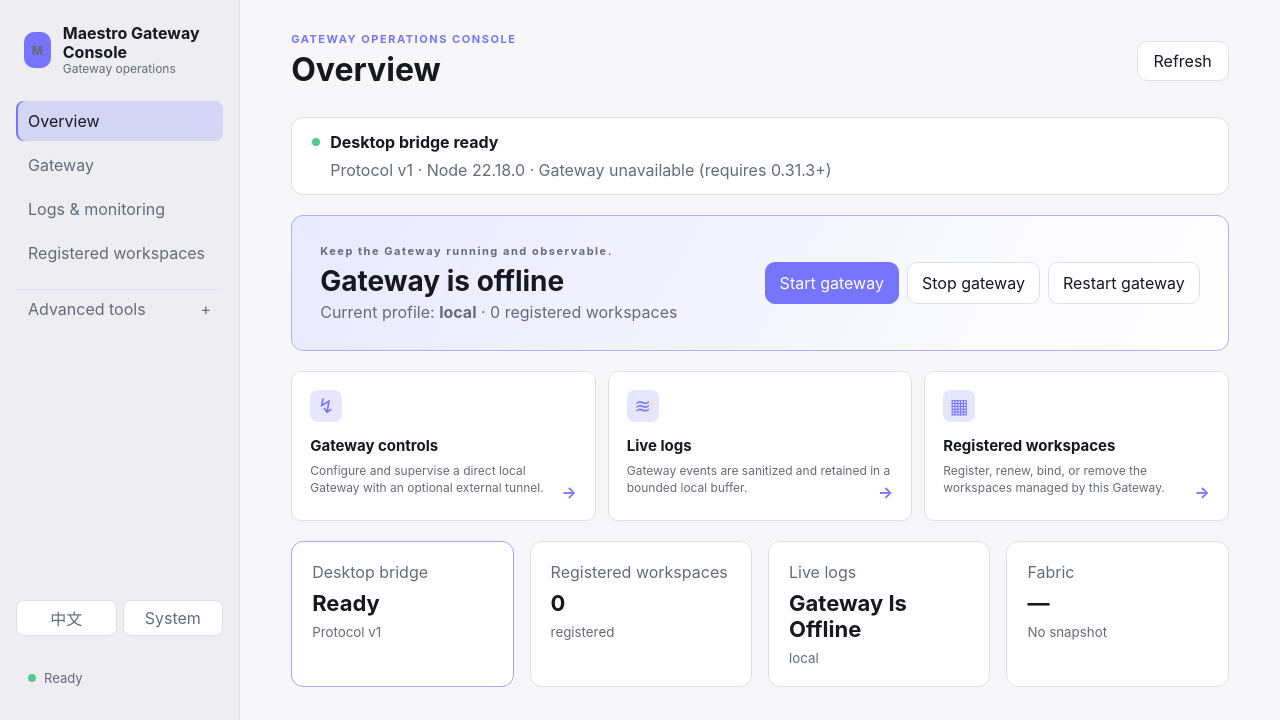
Scenario: App smoke › localizes Gateway compatibility status
expect the text "Gateway unavailable (requires 0.31.3+)" is shown: met, box left=330, top=160, right=832, bottom=180
Click the button named "Language" at (66, 618), box left=16, top=600, right=116, bottom=636
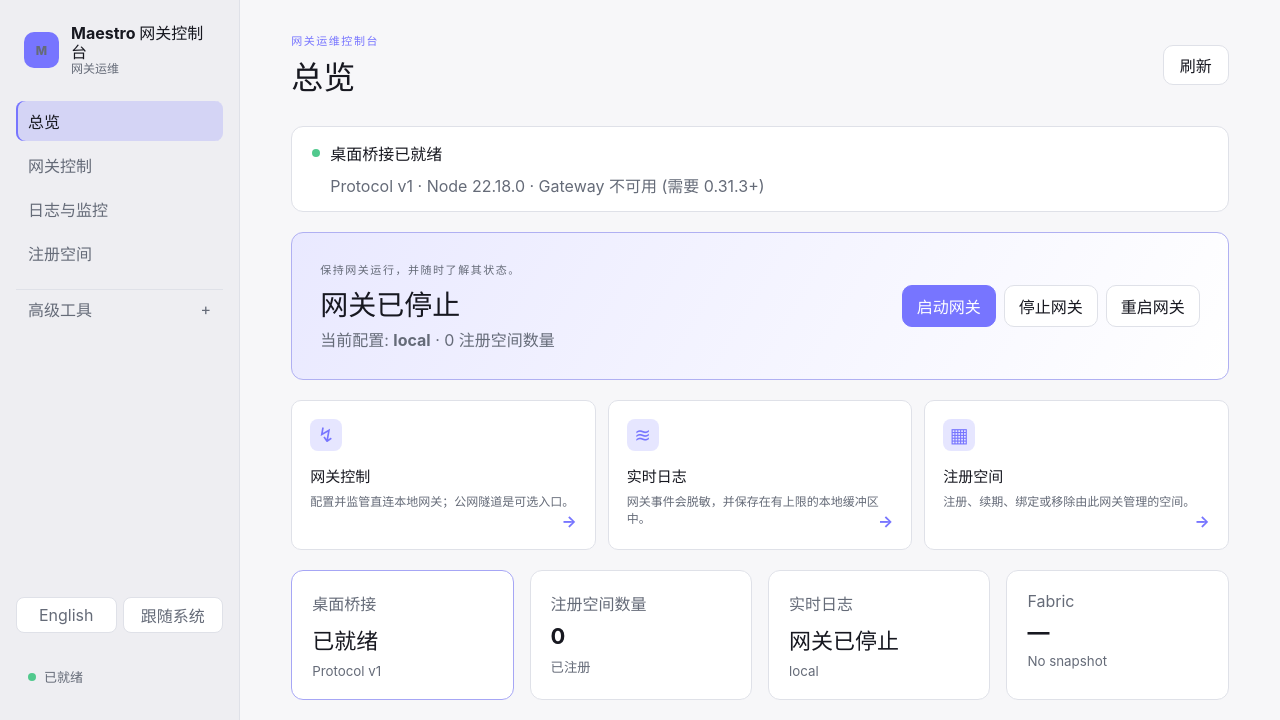
expect the text "Protocol v1 · Node 22.18.0 · Gateway 不可用 (需要 0.31.3+)" is shown: met, box left=330, top=176, right=765, bottom=196
